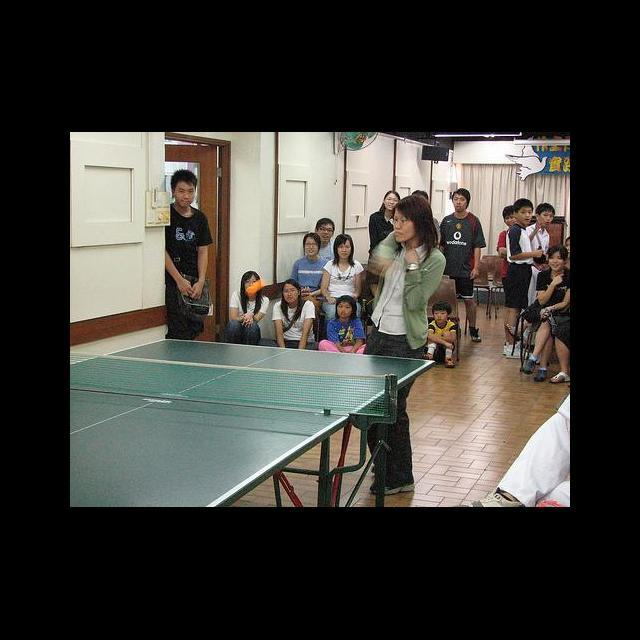ping-pong-ball: (246, 280, 264, 295)
